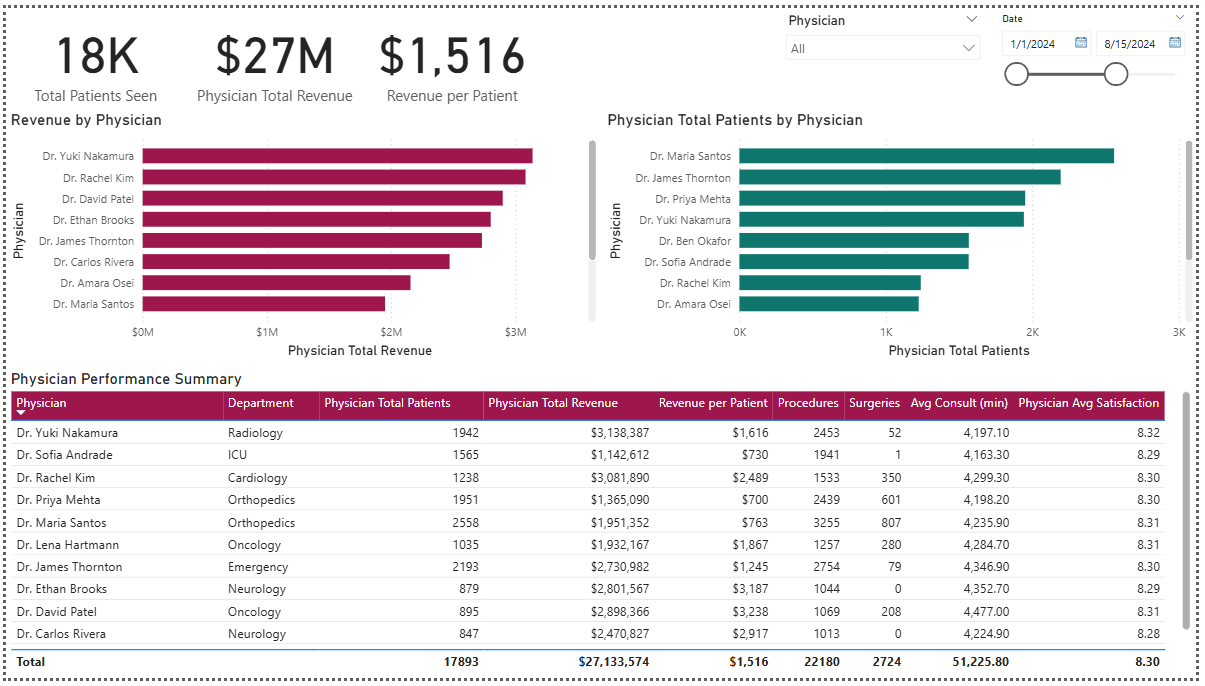

The page's visual inventory and layout, read from the dashboard file:
{"tool":"powerbi","page":{"name":"Physician Productivity","canvas":[1280,720],"ordinal":4},"visuals":[{"type":"slicer","fields":{"Values":["Daily_KPIs.Date"]},"box":[1058.6,0,221.4,94.2],"z":0},{"type":"slicer","fields":{"Values":["Physician_Daily.Physician"]},"box":[828.7,0,229.3,93.8],"z":1},{"type":"card","fields":{"Values":["_Measures.Physician Total Patients"]},"box":[0,0,192.8,109.4],"z":2},{"type":"card","fields":{"Values":["_Measures.Physician Total Revenue"]},"box":[192.8,0,191.1,109.4],"z":3},{"type":"card","fields":{"Values":["_Measures.Revenue per Patient"]},"box":[383.9,0,192.8,109.4],"z":4},{"type":"clusteredBarChart","title":"Revenue by Physician","fields":{"Category":["Physician_Daily.Physician"],"Y":["_Measures.Physician Total Revenue"]},"box":[0,109.4,639.3,271],"z":5},{"type":"clusteredBarChart","fields":{"Category":["Physician_Daily.Physician"],"Y":["_Measures.Physician Total Patients"]},"box":[641.1,109.4,639.3,271],"z":6},{"type":"tableEx","title":"Physician Performance Summary","fields":{"Values":["Physician_Daily.Physician","Physician_Daily.Department","_Measures.Physician Total Patients","_Measures.Physician Total Revenue","_Measures.Revenue per Patient","Sum(Physician_Daily.Procedures)","Sum(Physician_Daily.Surgeries)","Sum(Physician_Daily.Avg Consult (min))","_Measures.Physician Avg Satisfaction"]},"box":[0,389.2,1278.6,330.1],"z":7}]}

Visuals, with their boxes in screenshot pixels (x1, y1, x2, y2), scaled from the page's 1280x720 canvas onto the 1205x686 screenshot:
slicer - Daily_KPIs.Date: (997,0,1204,90)
slicer - Physician_Daily.Physician: (780,0,996,89)
card - _Measures.Physician Total Patients: (0,0,182,104)
card - _Measures.Physician Total Revenue: (182,0,361,104)
card - _Measures.Revenue per Patient: (361,0,543,104)
"Revenue by Physician" clusteredBarChart: (0,104,602,362)
clusteredBarChart - Physician_Daily.Physician x _Measures.Physician Total Patients: (604,104,1204,362)
"Physician Performance Summary" tableEx: (0,371,1204,685)
